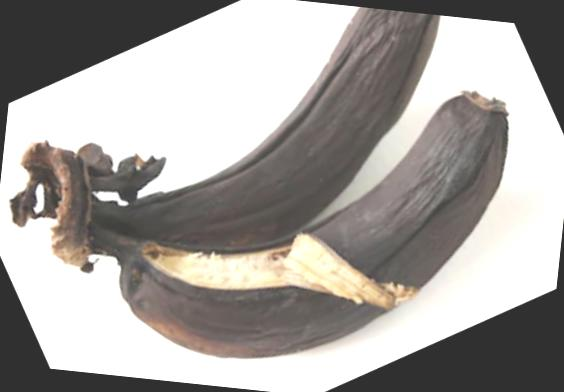Banana Overripe: (13, 0, 531, 392)
